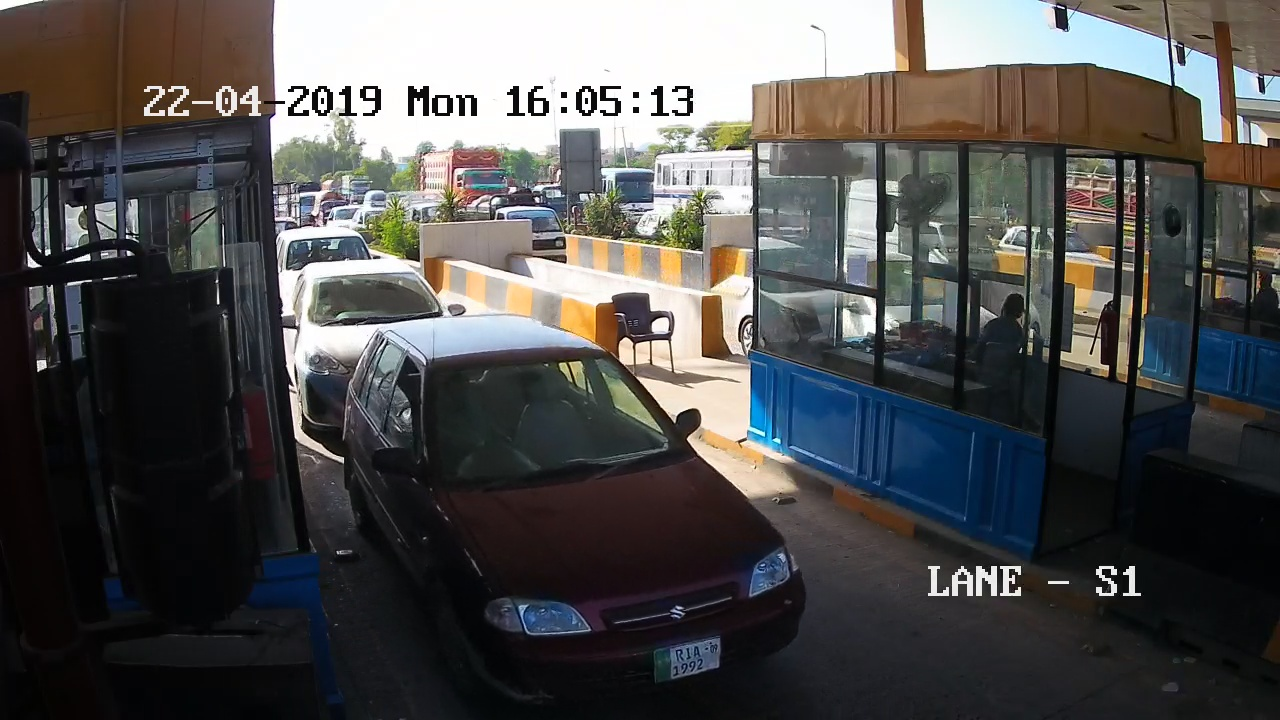Number Plate (Car): (652, 643, 723, 677)
